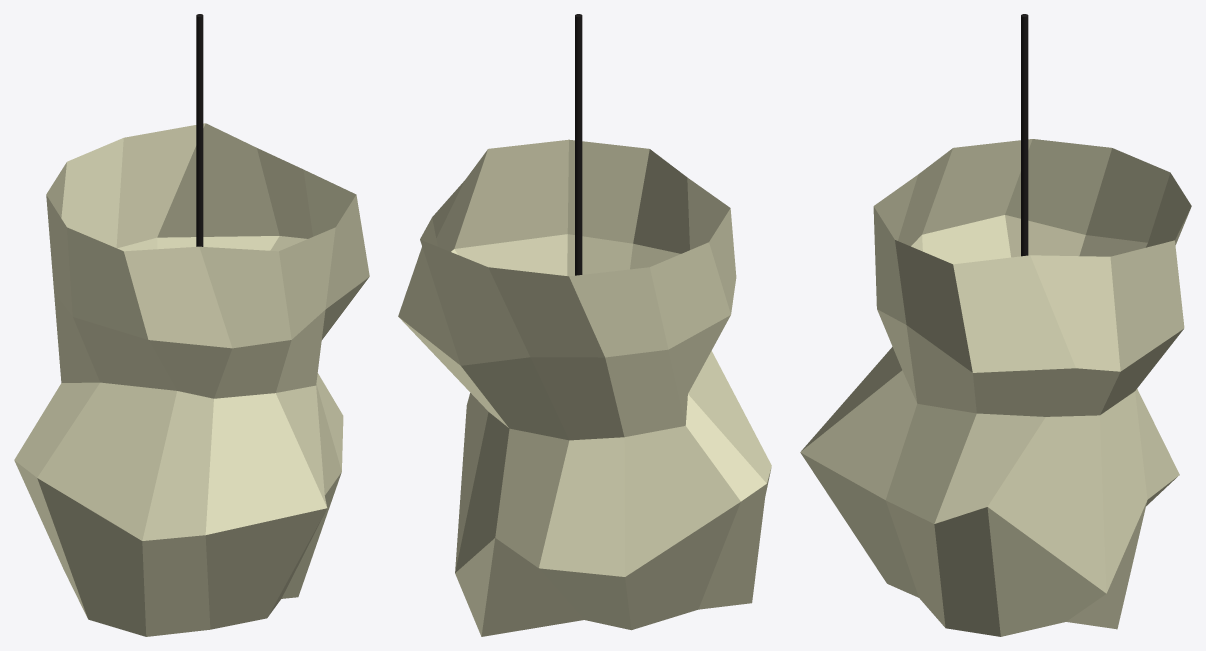
File: Apple_Upcycled_1.fbx
3 renders of one model, left to right at view 1: azimuth 30°, elevation 25°; view 2: azimuth 150°, elevation 25°; view 3: azimuth 270°, elevation 25°, orthographic. The views are drawn at different scales.
Parts seen in each view (by area): view 1: Lampeskærm+pære; view 2: Lampeskærm+pære; view 3: Lampeskærm+pære.
Part boxes in pixels (left/top/right/bottom): Lampeskærm+pære: left=14, top=14, right=369, bottom=636; Lampeskærm+pære: left=398, top=14, right=771, bottom=636; Lampeskærm+pære: left=800, top=14, right=1191, bottom=636.
Size of the model in its own units: 36.45 by 63.3 by 38.1.
